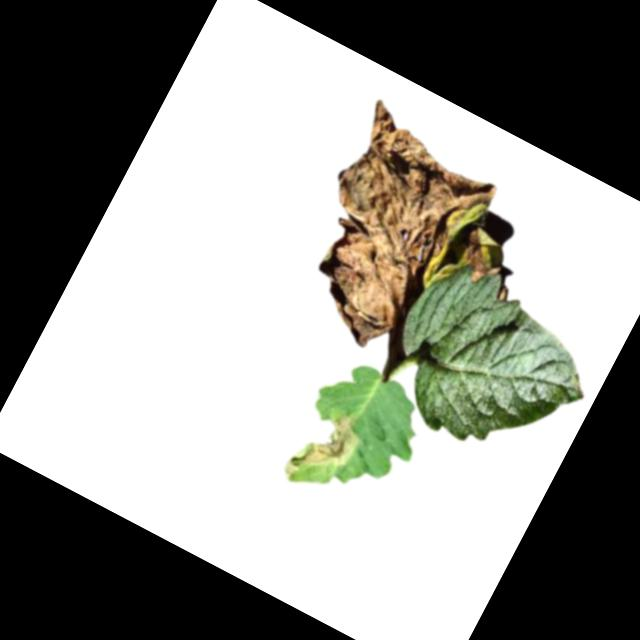Late_blight: (271, 95, 510, 368), (278, 397, 372, 504), (454, 227, 514, 292)
healthy: (366, 246, 616, 486)
